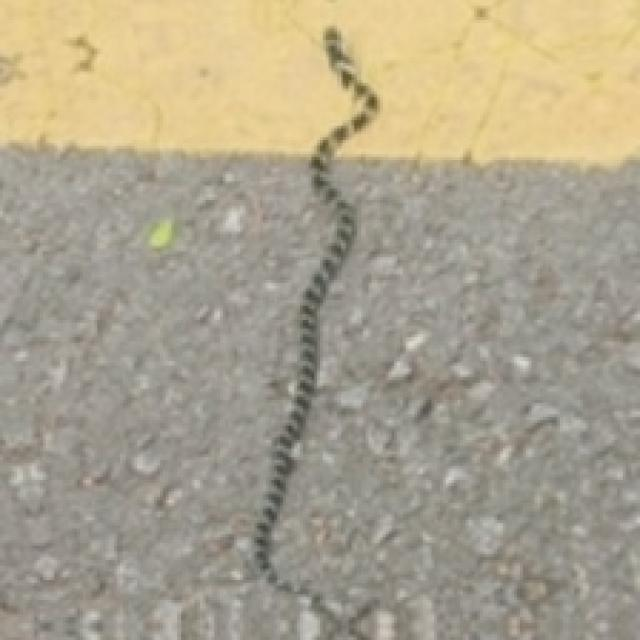king cobra: (254, 26, 377, 586)
